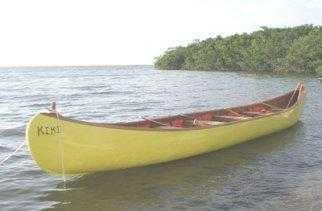kayak: (25, 85, 309, 177)
